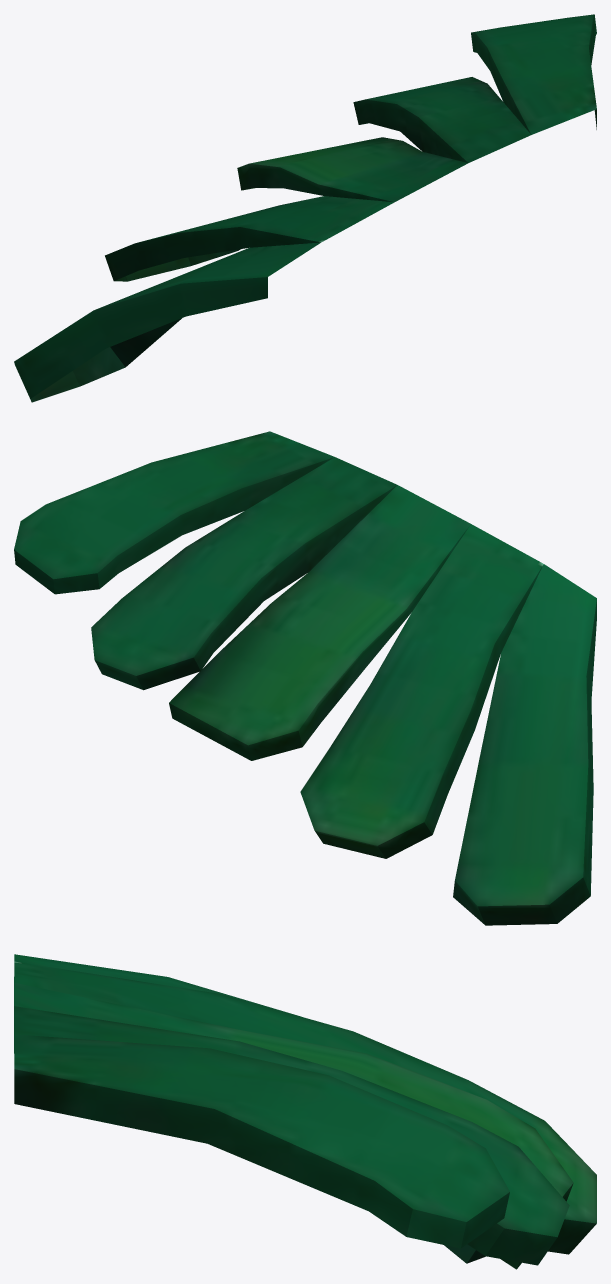
File: FOL_Grass_08.obj
3 renders of one model, top to bottom at view 1: azimuth 30°, elevation 25°; view 2: azimuth 150°, elevation 25°; view 3: azimuth 270°, elevation 25°, orthographic. The views are drawn at different scales.
Visible parts, largest first — view 1: FOL_Grass_08; view 2: FOL_Grass_08; view 3: FOL_Grass_08.
Boxes of the visible parts, bbox=[...] form: FOL_Grass_08: bbox=[14, 14, 596, 402]; FOL_Grass_08: bbox=[14, 431, 596, 925]; FOL_Grass_08: bbox=[14, 954, 596, 1269].
Size of the model in its own units: 0.9374 by 0.4679 by 0.5239.
1 material, 1 textured.
